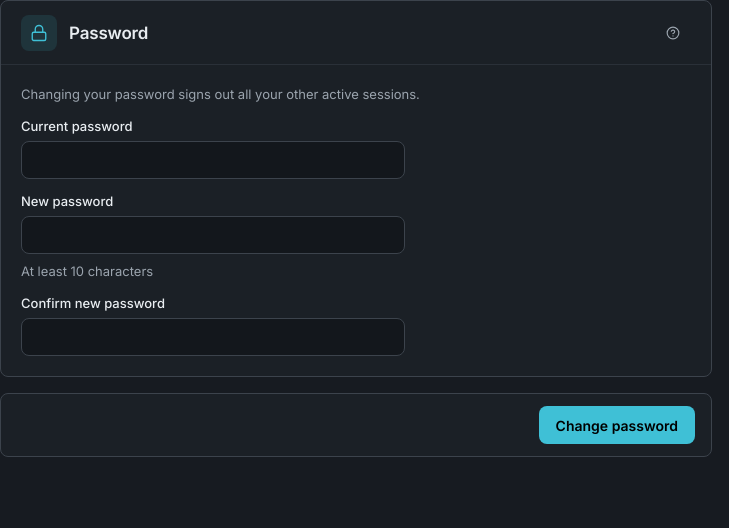
Test: SecurityForm › asks for the current password when it is left empty
Click the button "Change password".
click(617, 425)  # box x1=539 y1=406 x2=695 y2=444
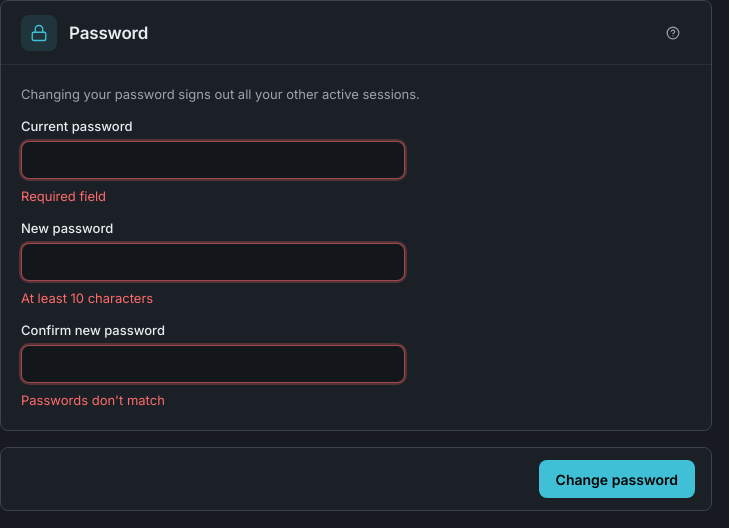
Now the text "Required field" is shown, box x1=21 y1=188 x2=106 y2=204
